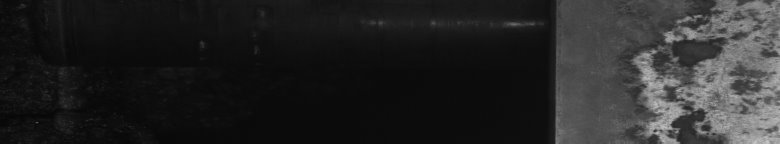kb: (630, 4, 776, 136)
